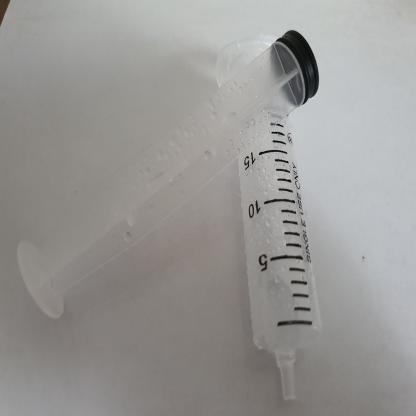wet: (14, 21, 328, 330), (214, 38, 328, 404)
